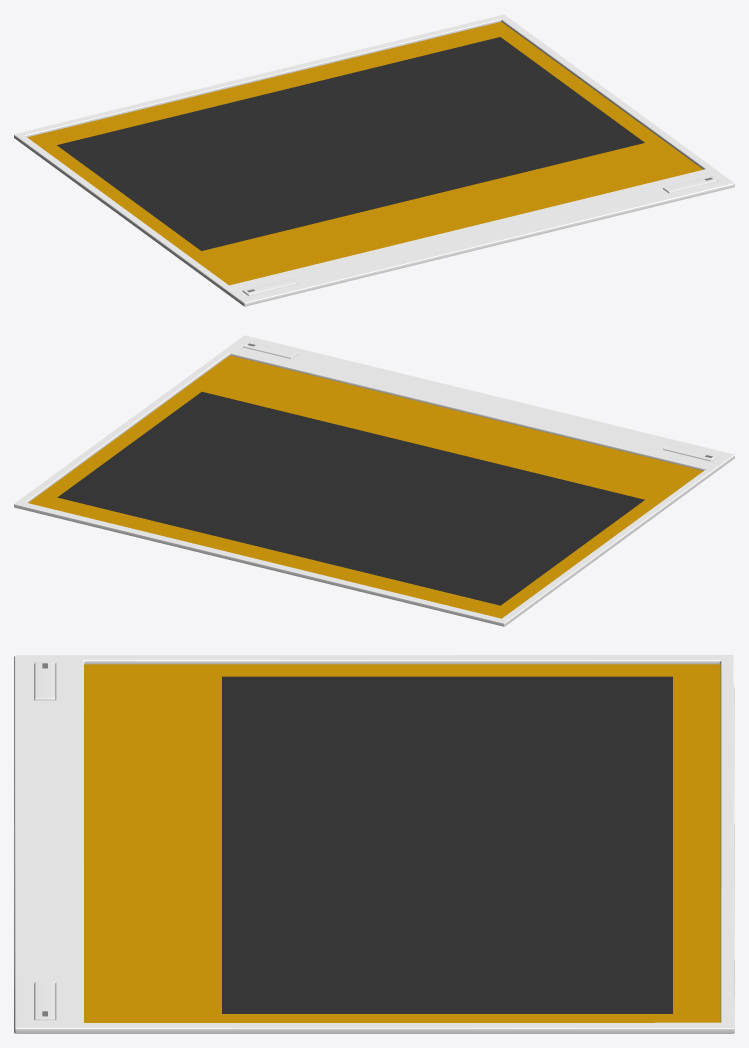
3 views of the same model, one above another, from view 1: azimuth 30°, elevation 25°; view 2: azimuth 150°, elevation 25°; view 3: azimuth 270°, elevation 25° (orthographic). The views are drawn at different scales.
Parts seen in each view (by area): view 1: SM_H_Decal_WellLid_08; view 2: SM_H_Decal_WellLid_08; view 3: SM_H_Decal_WellLid_08.
Boxes of the visible parts, bbox=[...] form: SM_H_Decal_WellLid_08: bbox=[14, 14, 734, 306]; SM_H_Decal_WellLid_08: bbox=[14, 335, 734, 626]; SM_H_Decal_WellLid_08: bbox=[14, 655, 734, 1033].
Bounding box in the file's own units: 136 × 167 × 1.56.
